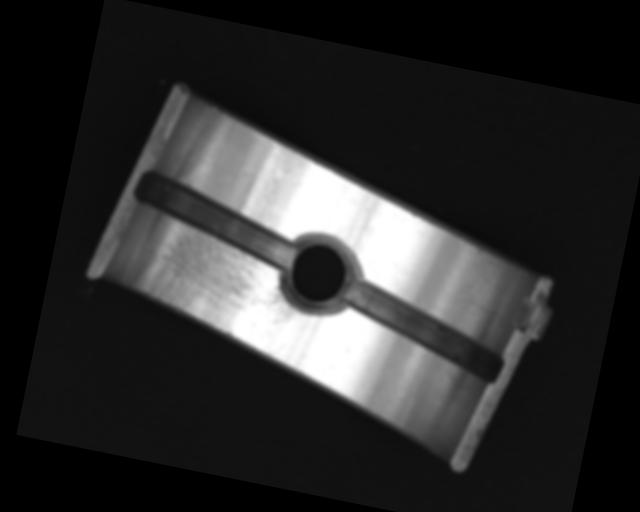gap: (334, 275, 515, 383), (124, 167, 308, 273)
hole: (273, 225, 367, 322)
scratch: (123, 207, 309, 363)
